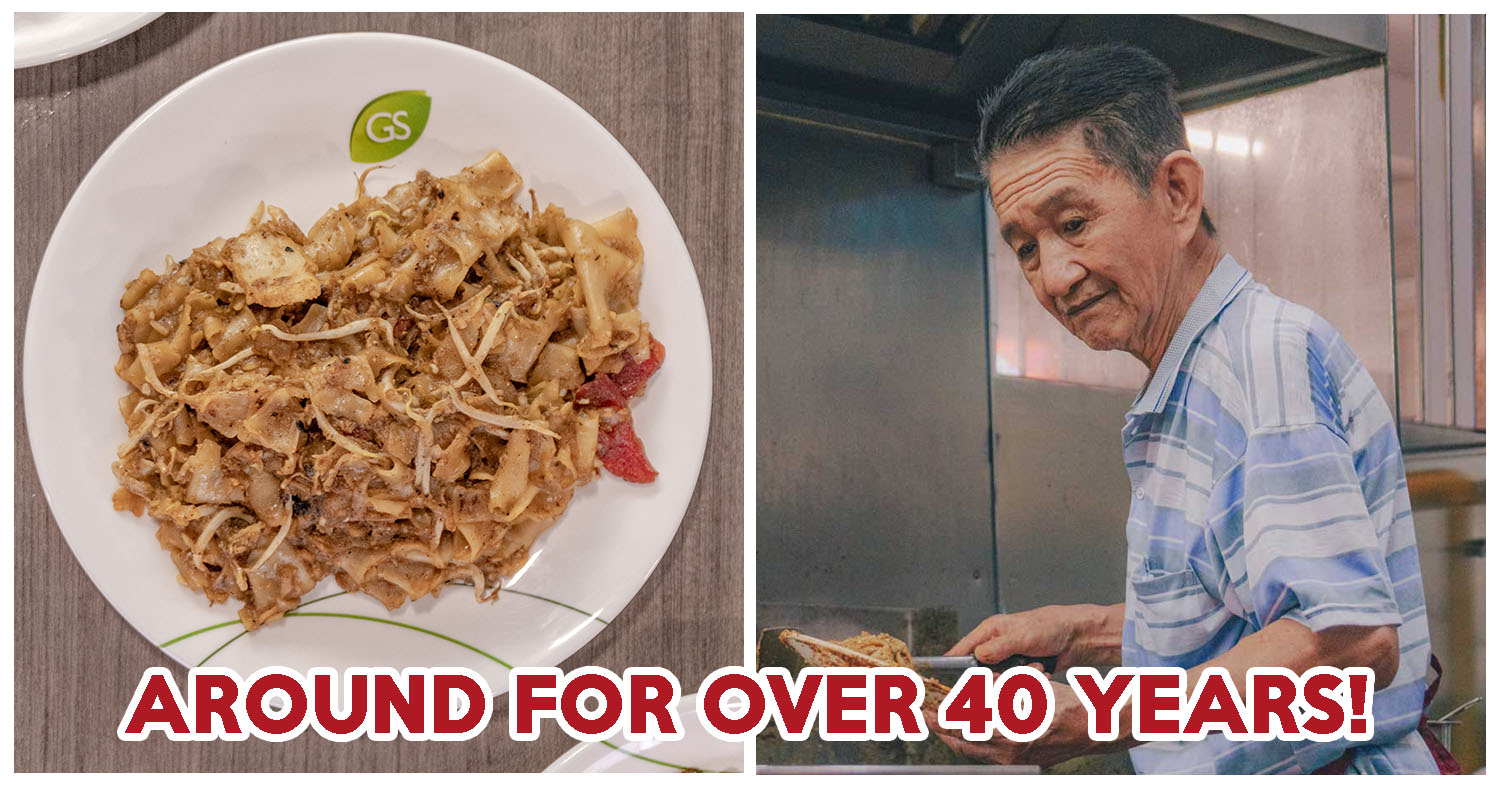Char Kway Teow: (150, 158, 651, 609)
